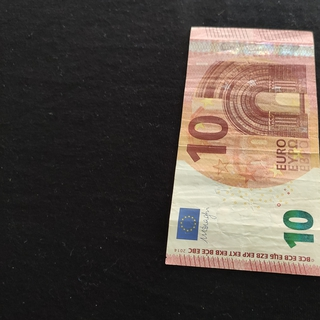10EUROFront: (164, 25, 320, 277)
